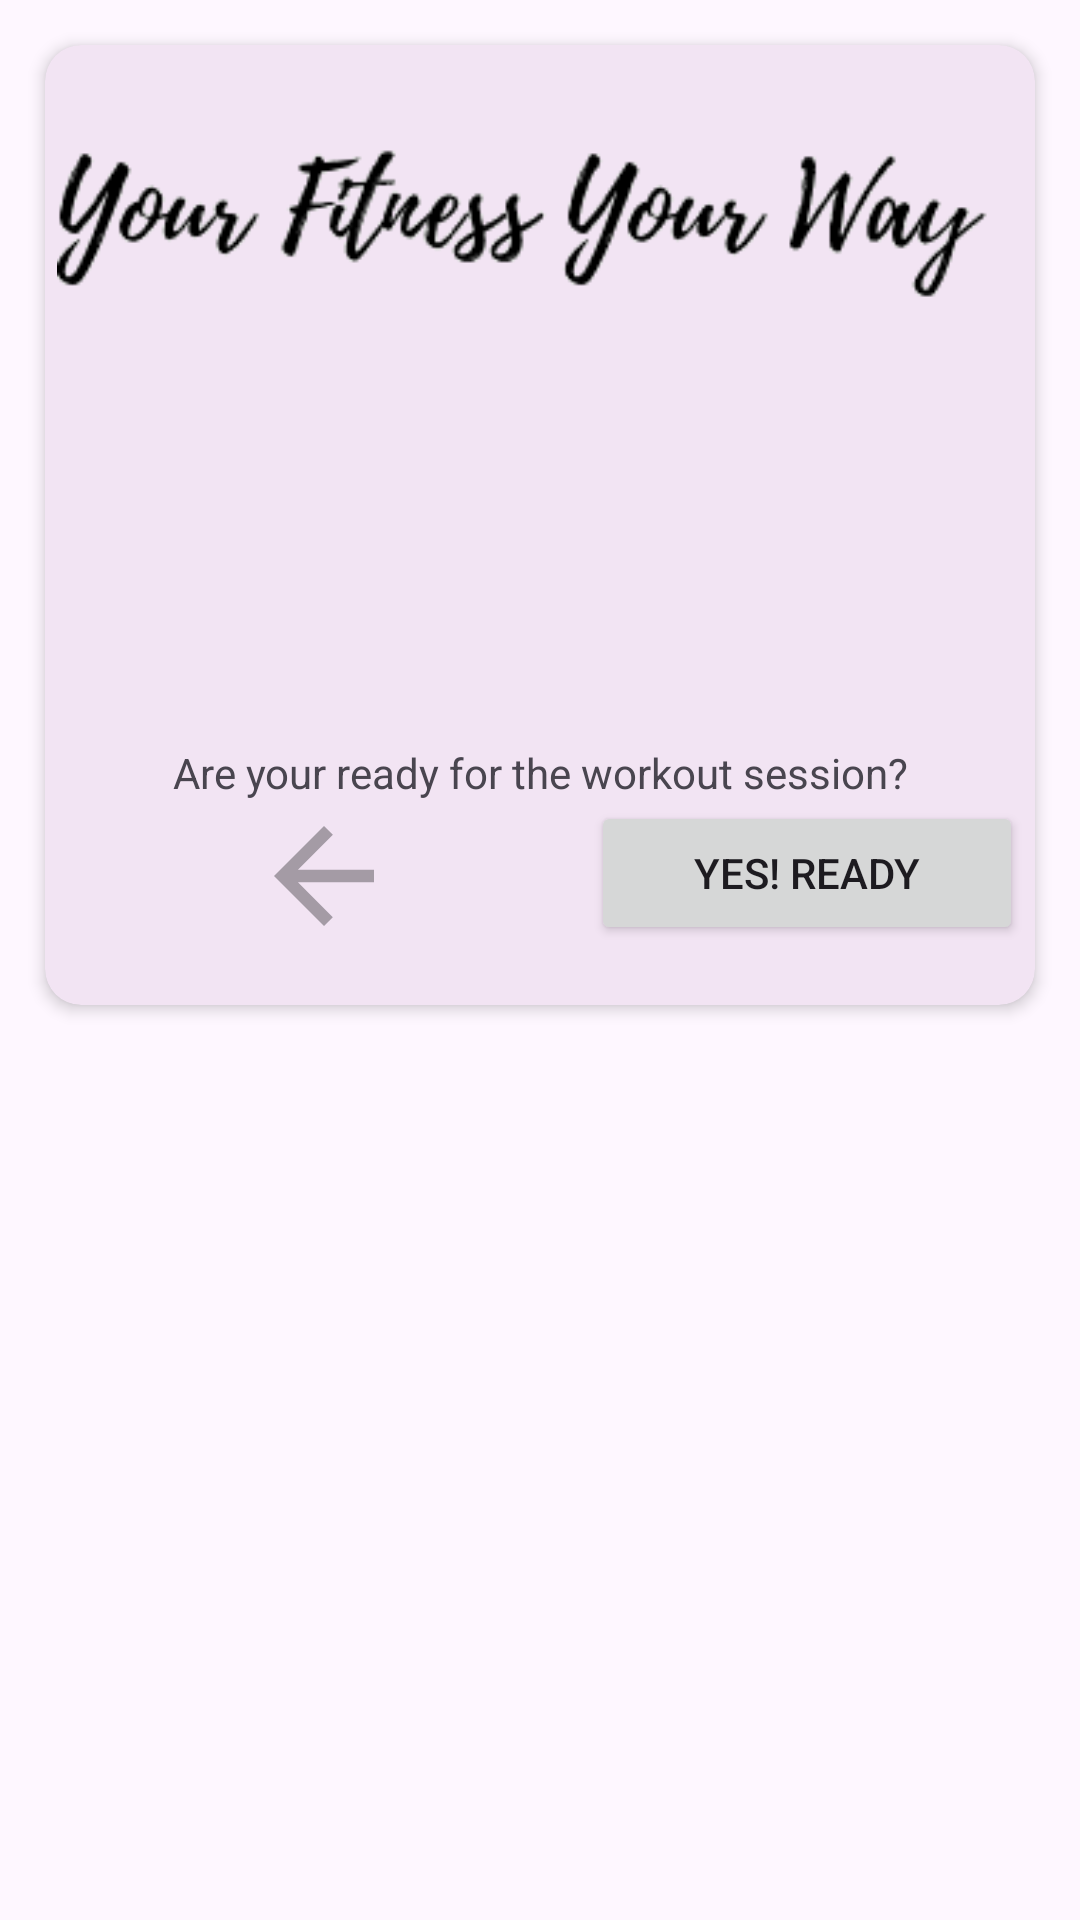

Point at icon controls on the screen. Image size 1080×1920, points as [x,y].
arrow back: [324,876]
